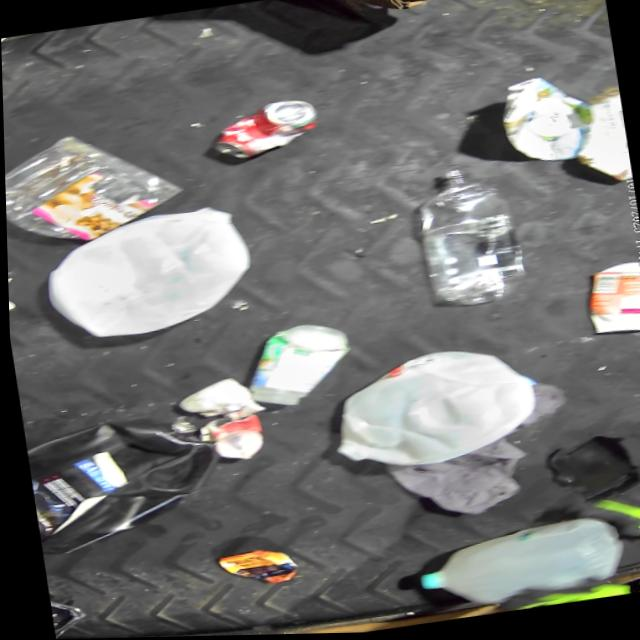can: (210, 94, 322, 162), (206, 412, 269, 466)
milk_jug: (38, 201, 258, 348), (328, 339, 549, 478), (412, 517, 623, 611)
non_white_jug: (20, 402, 233, 554)
plastic_bottle: (401, 163, 528, 313)
